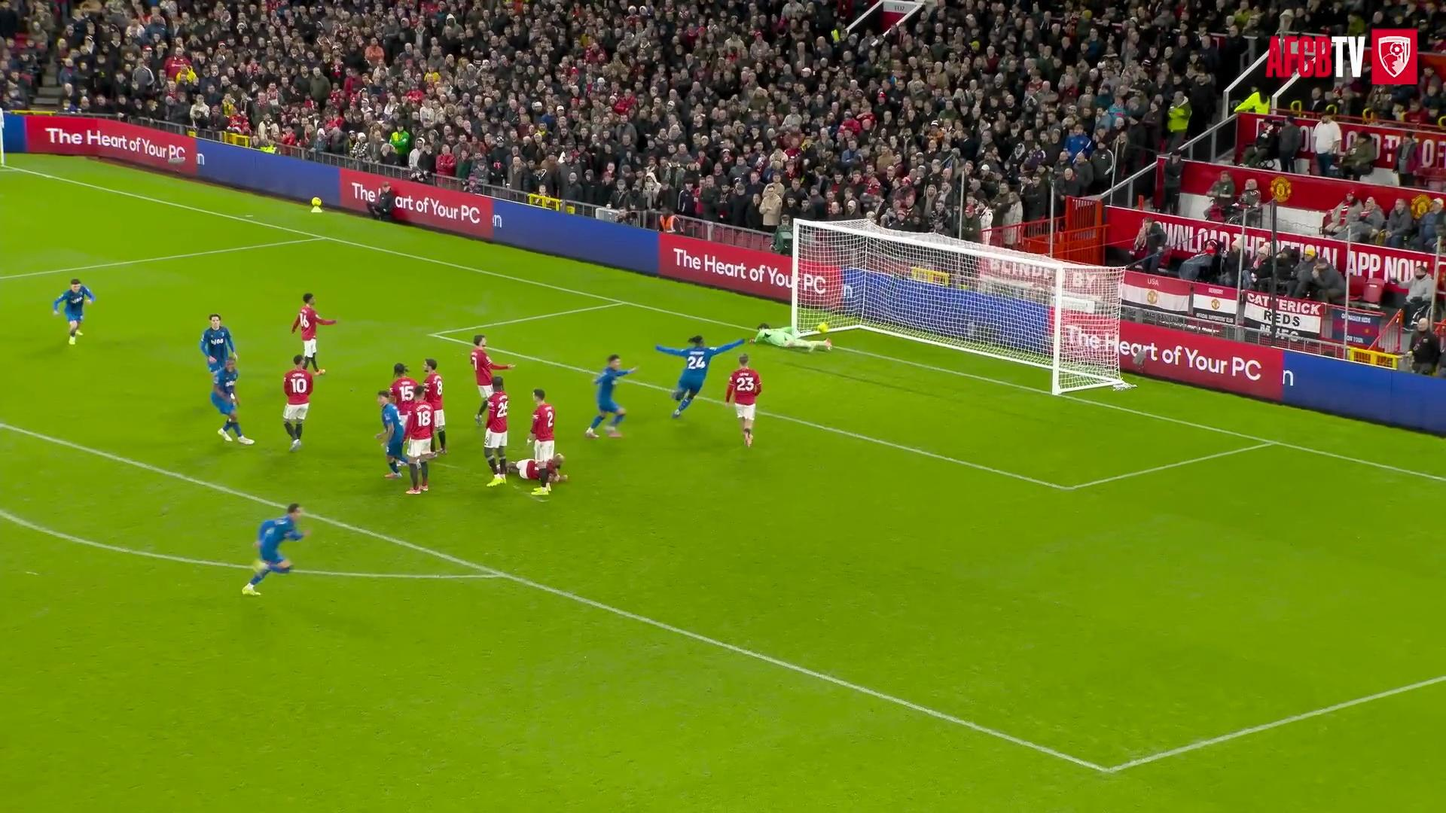football: (816, 323, 828, 333)
player: (655, 336, 745, 417), (242, 503, 308, 595), (585, 354, 636, 437), (471, 334, 514, 424), (291, 294, 337, 374), (211, 358, 253, 444), (724, 354, 761, 446), (376, 390, 409, 478), (405, 391, 433, 494), (283, 355, 313, 450), (53, 278, 95, 344), (484, 376, 508, 486), (749, 323, 831, 352), (422, 360, 446, 454), (201, 313, 238, 373), (527, 388, 554, 459), (507, 455, 568, 486), (390, 363, 419, 426)
